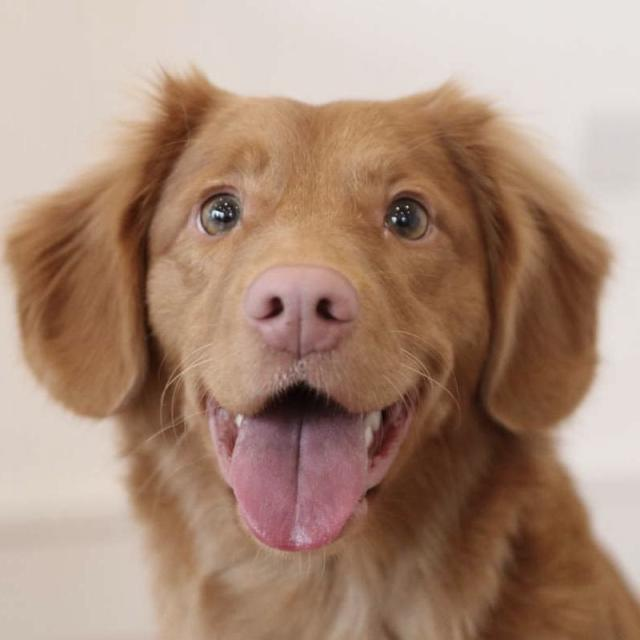dog: (6, 75, 639, 639)
